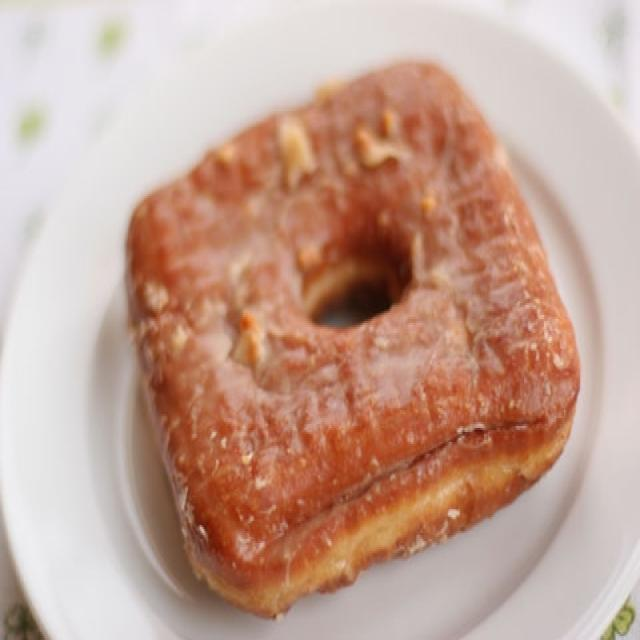炸货点心: (97, 36, 596, 594)
